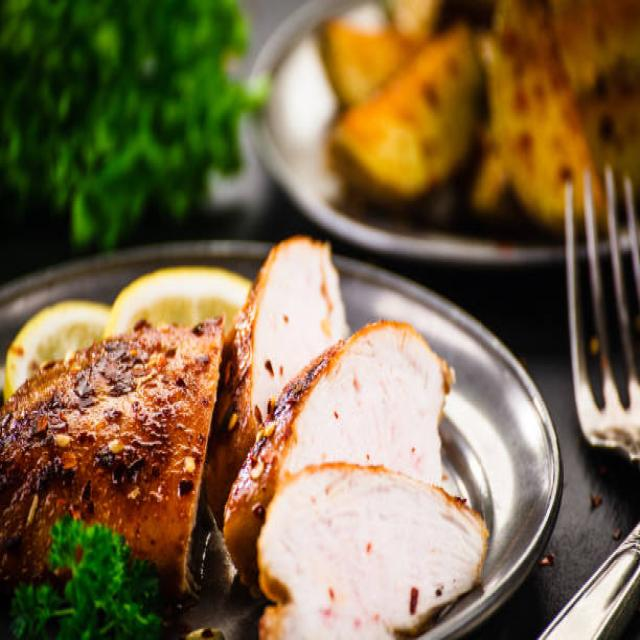Frango: (0, 232, 490, 640)
